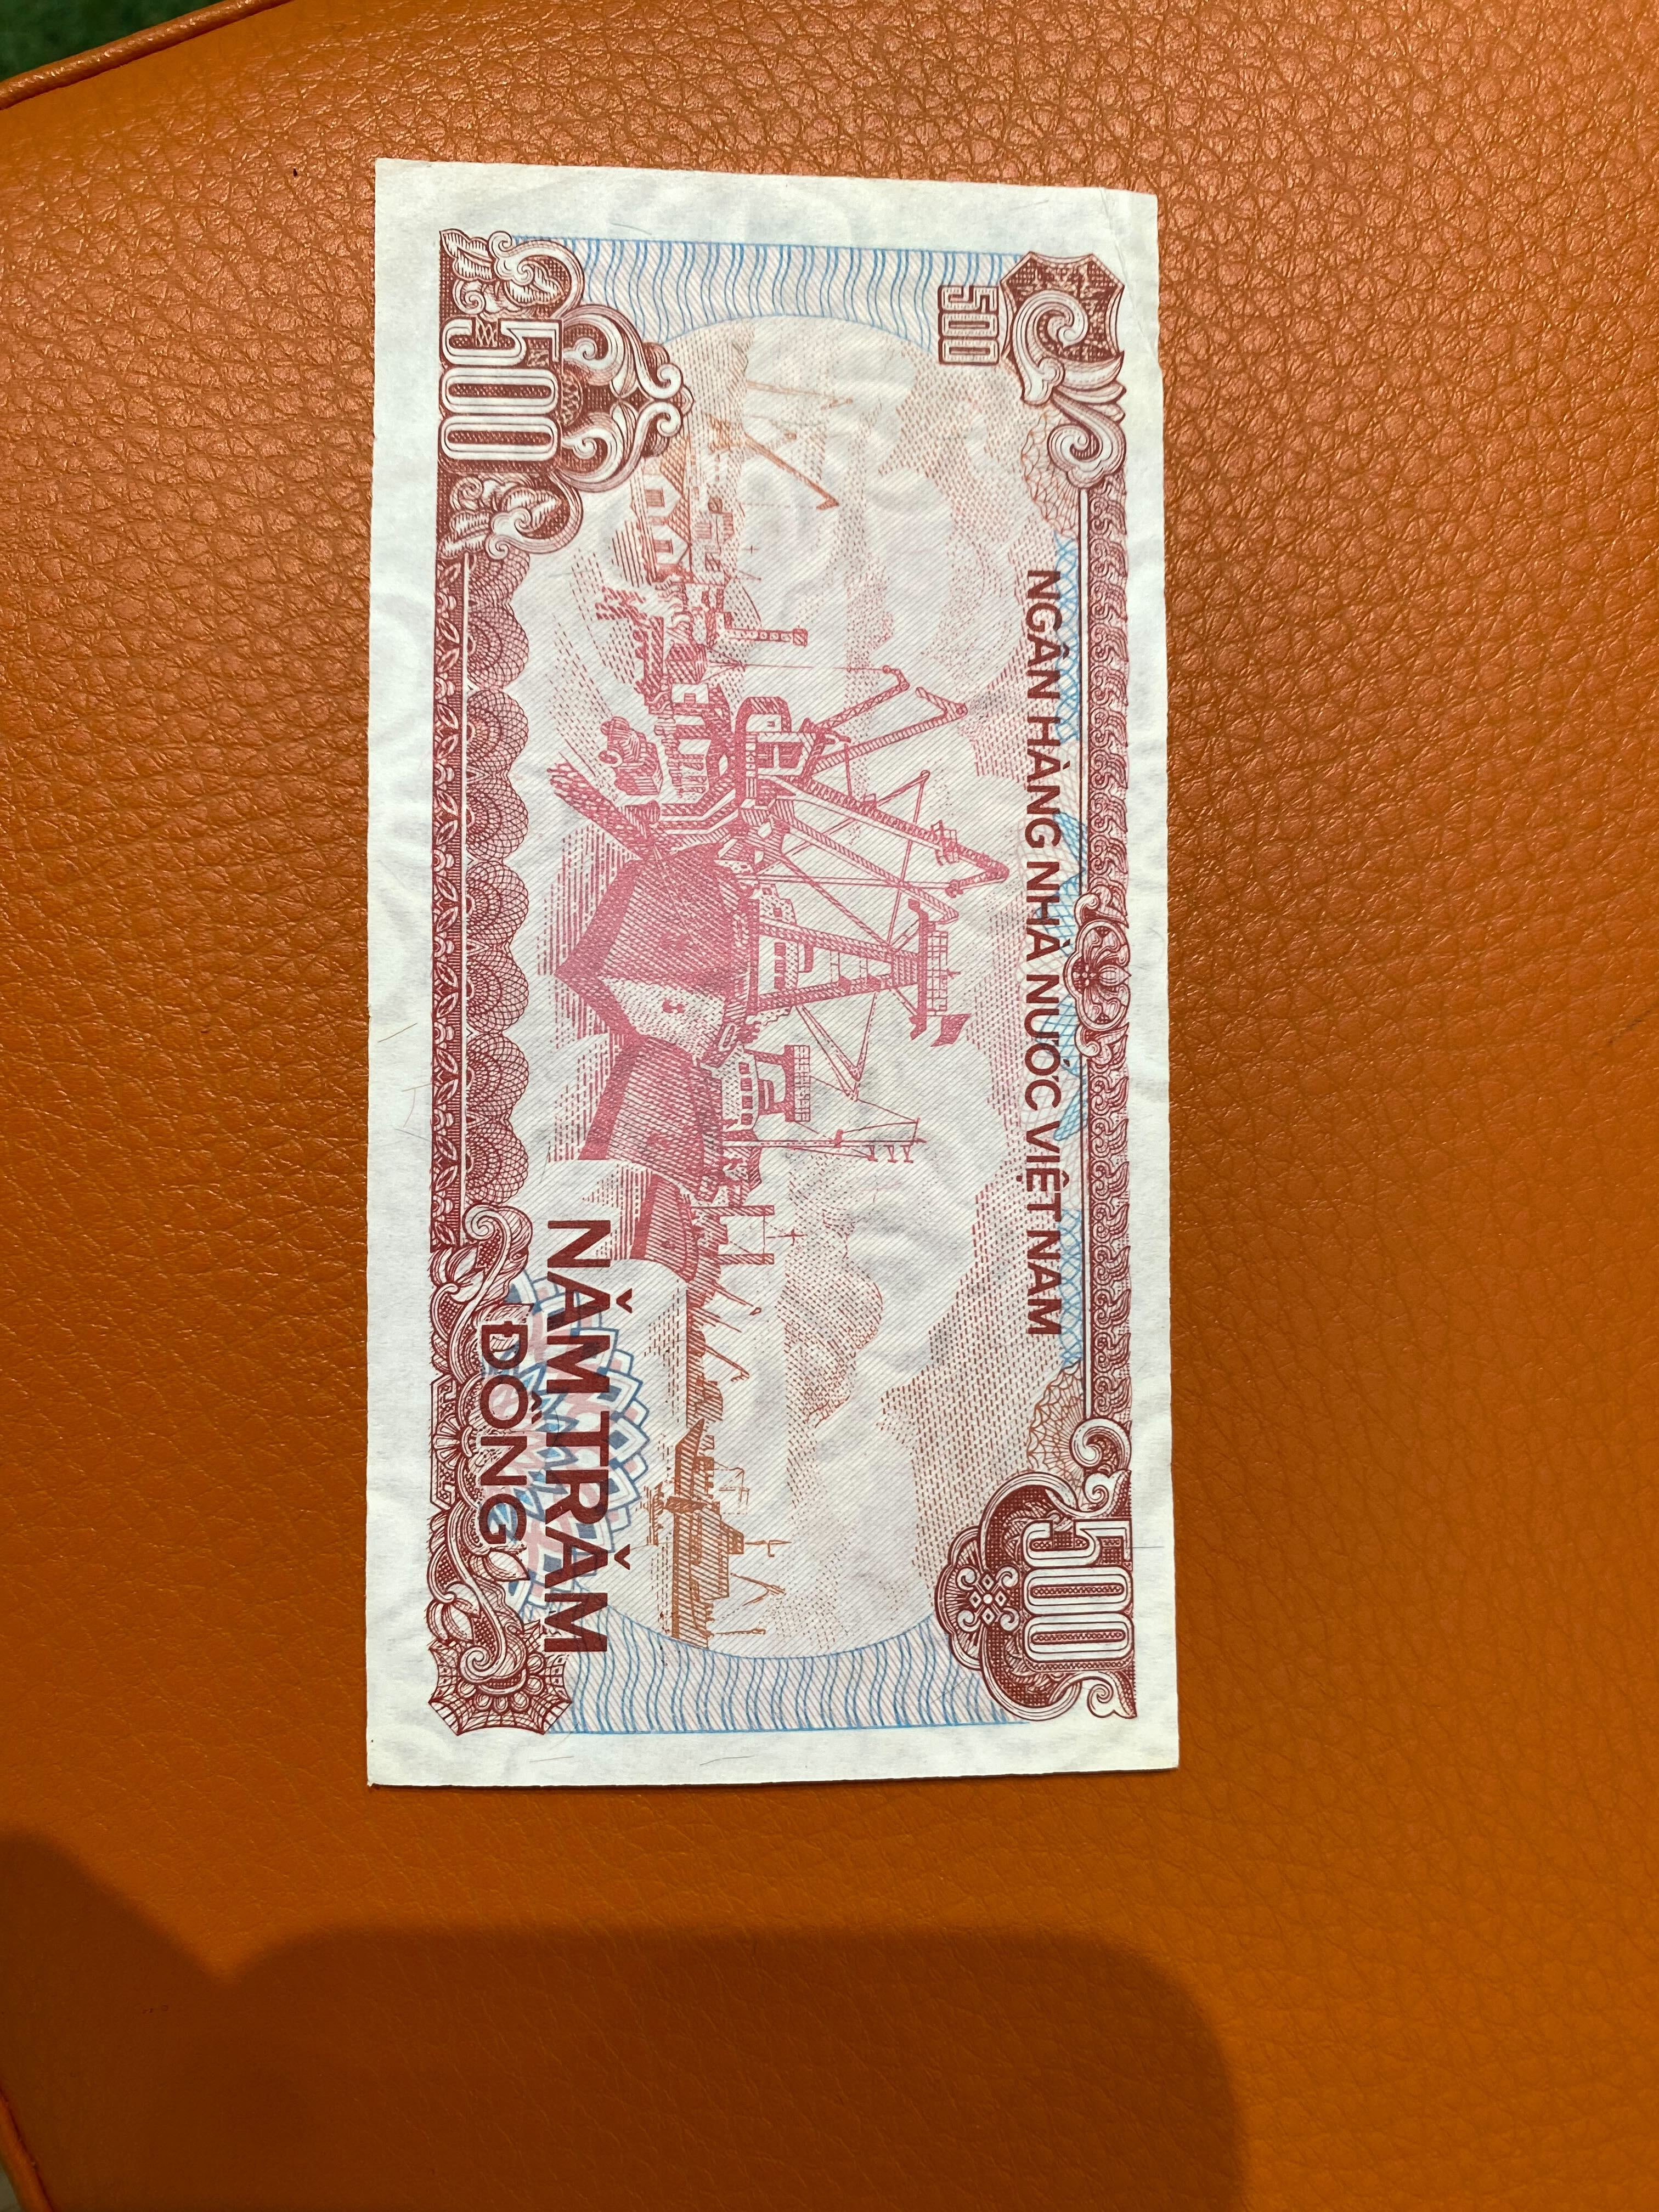500vnd: (369, 153, 1183, 1764)
